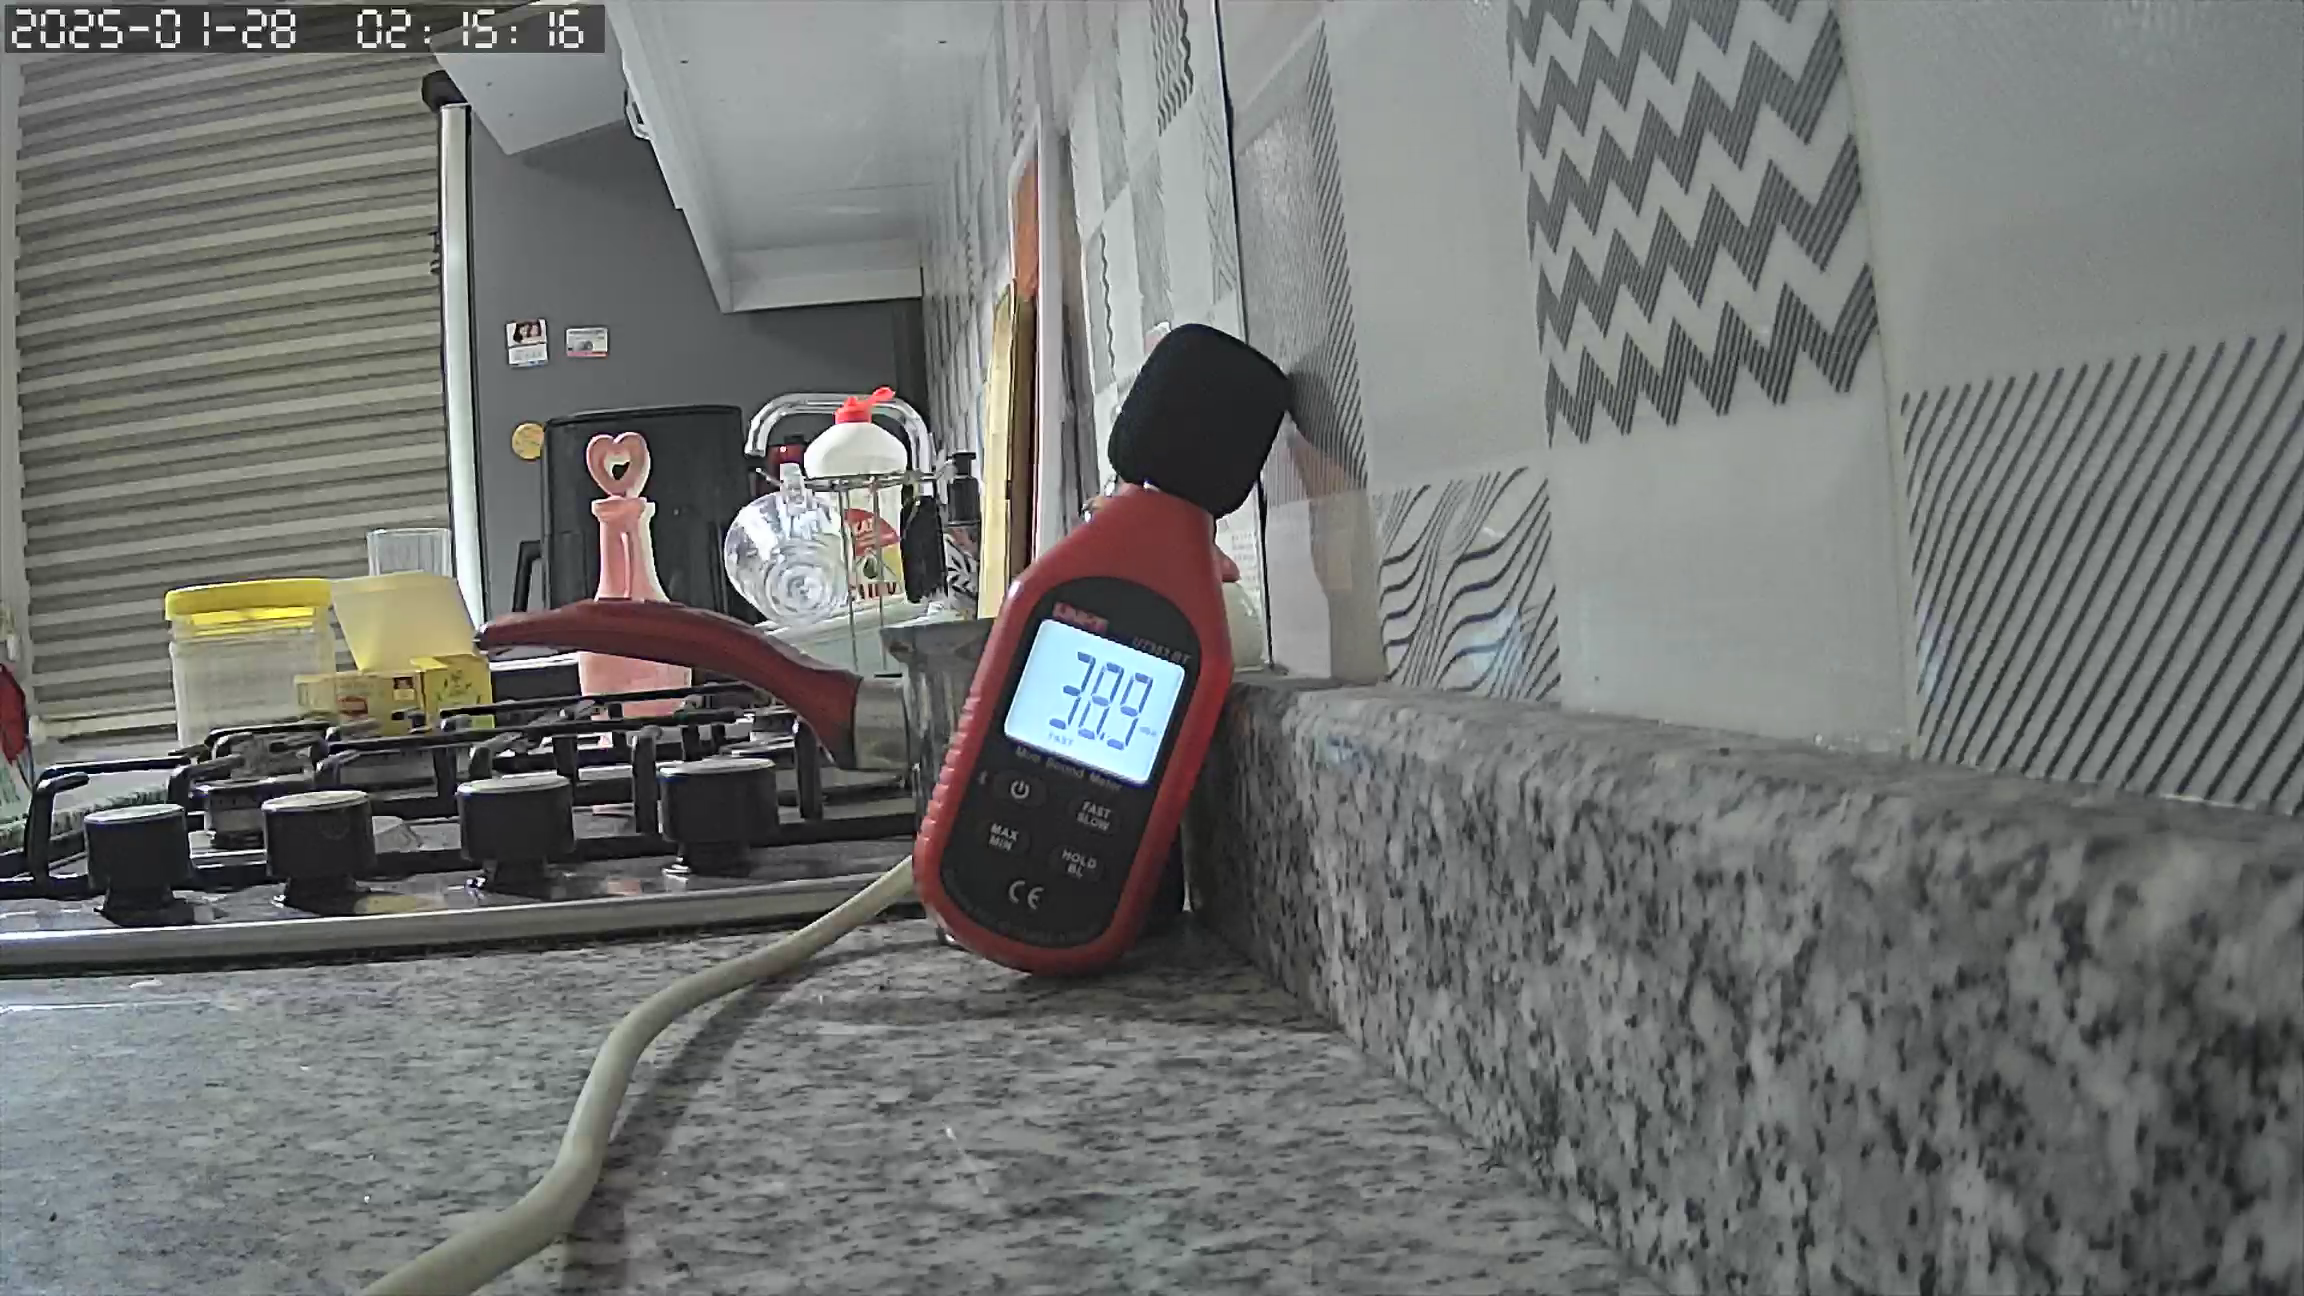screen: (1011, 623, 1177, 779)
